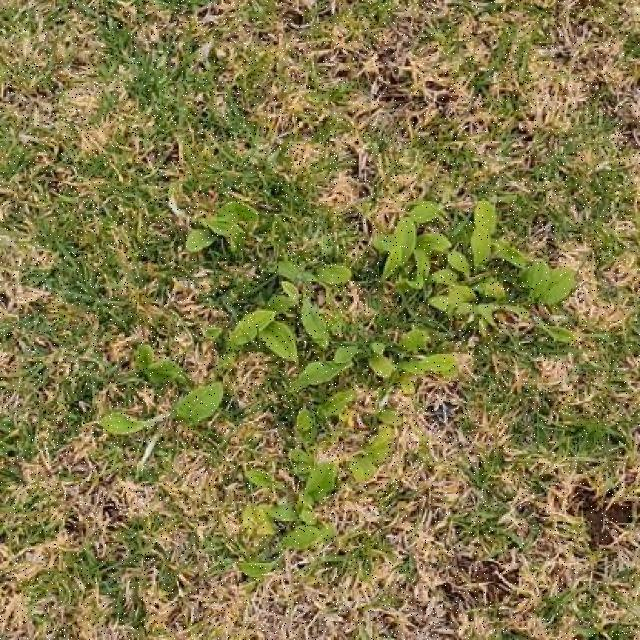weed: (97, 262, 460, 580), (371, 200, 578, 348), (185, 200, 268, 254)
